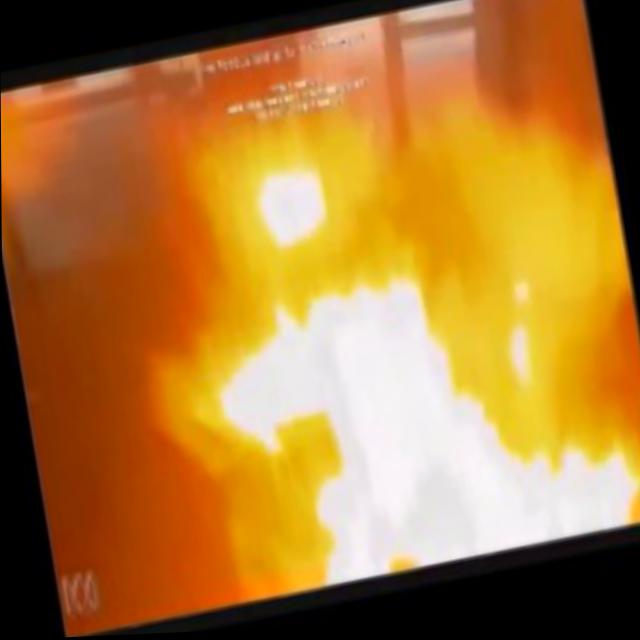fire: (283, 283, 453, 423), (339, 401, 476, 573), (498, 452, 634, 547), (454, 399, 507, 557), (258, 163, 338, 261), (214, 358, 301, 443), (325, 480, 361, 580), (505, 335, 537, 404)
smoke: (20, 361, 176, 638), (306, 0, 592, 127), (10, 175, 154, 370), (161, 485, 222, 609)
